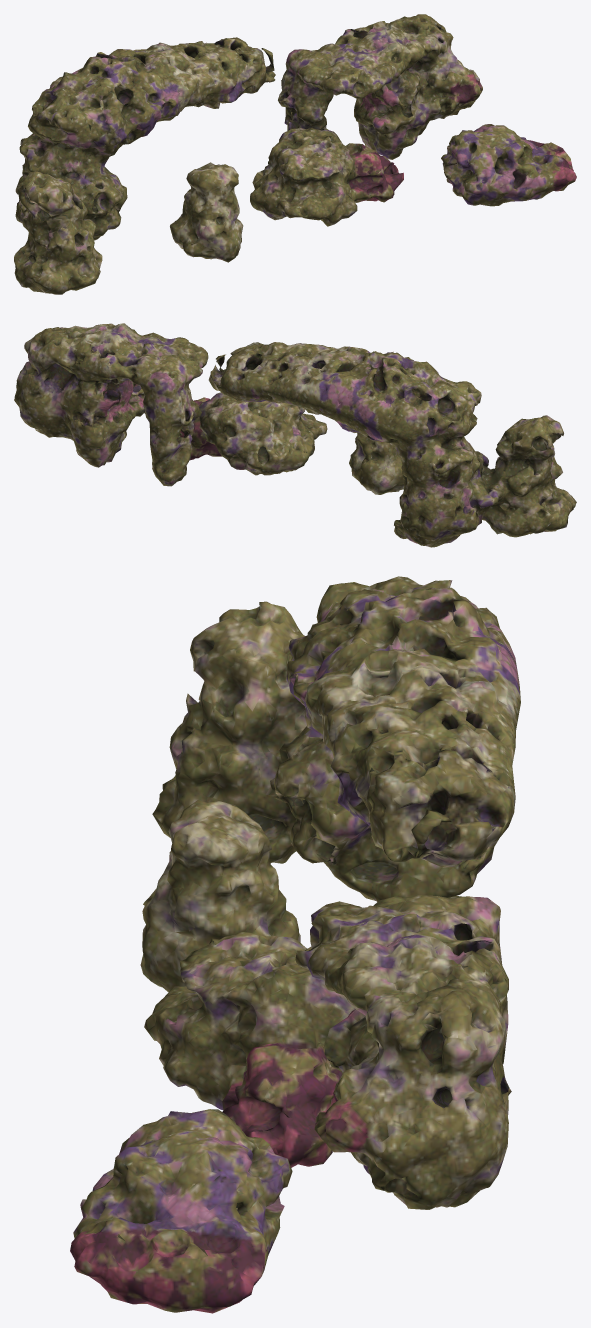
The model's file is rockscape_lod1.glb.
3 views of the same model, one above another, from view 1: azimuth 30°, elevation 25°; view 2: azimuth 150°, elevation 25°; view 3: azimuth 270°, elevation 25° (orthographic). The views are drawn at different scales.
Parts seen in each view (by area): view 1: Rock; view 2: Rock; view 3: Rock.
Part boxes in pixels (x1=…): Rock: x1=14, y1=14, x2=576, y2=294; Rock: x1=14, y1=323, x2=576, y2=547; Rock: x1=70, y1=576, x2=520, y2=1313.
Size of the model in its own units: 122 by 37.4 by 45.11.
Materials: 1 (1 with a texture image).
